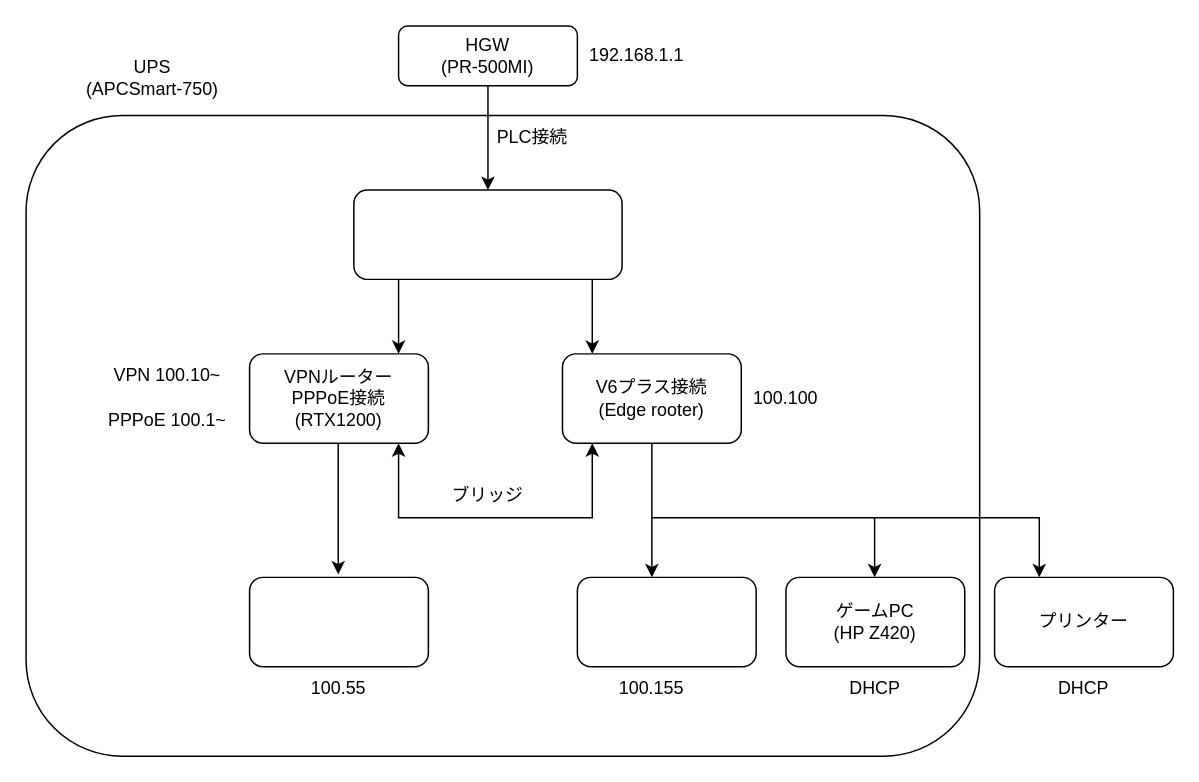
Some shapes in this 1199 by 782 pixel diagram are drawn without their labels. Here are the shapes that lost their labels. From the top down, the box of each, then its label:
(352, 188, 622, 279): エレコムスイッチングハブ (EHC-G05PA-B-K)
(248, 576, 428, 667): サーバー (HP Z220)
(576, 576, 756, 667): 無線LANAP (WAB-I1750-PS)
